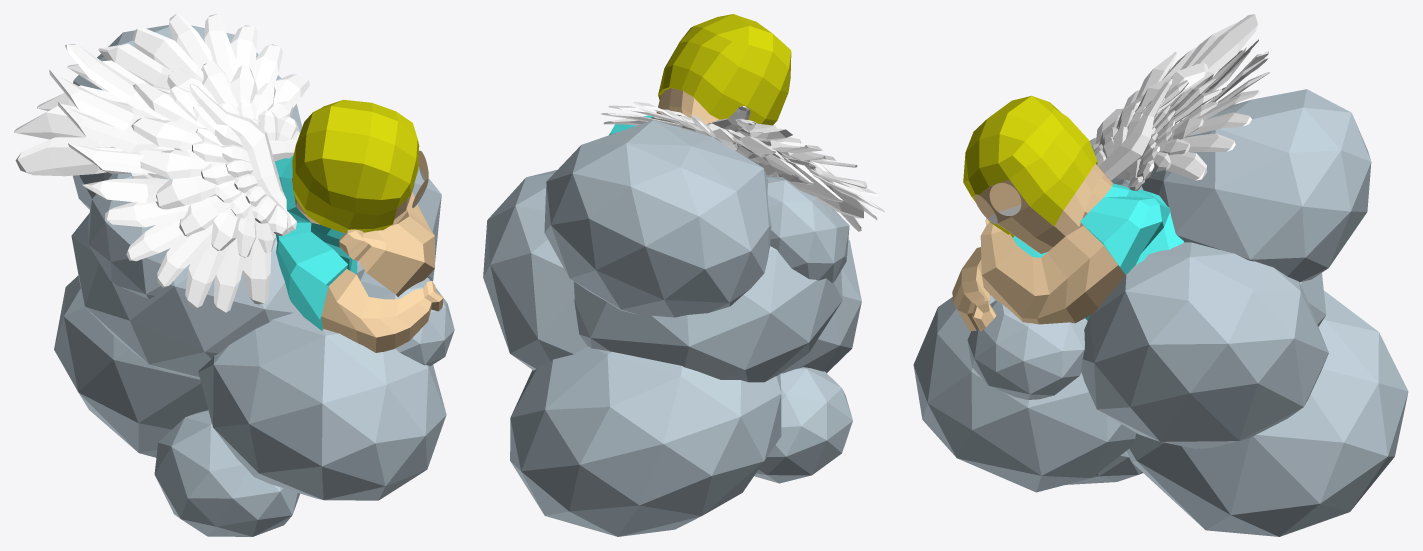
Rendered from VirtudDef.fbx.
3 views of the same model, side by side, from view 1: azimuth 30°, elevation 25°; view 2: azimuth 150°, elevation 25°; view 3: azimuth 270°, elevation 25° (orthographic). The views are drawn at different scales.
Visible parts, largest first — view 1: Cube.011; view 2: Cube.011; view 3: Cube.011.
Boxes of the visible parts, x1,y1,x2,y2 form: Cube.011: (14, 14, 454, 536); Cube.011: (483, 14, 884, 536); Cube.011: (913, 14, 1408, 536).
Size of the model in its own units: 165 by 180 by 186.
